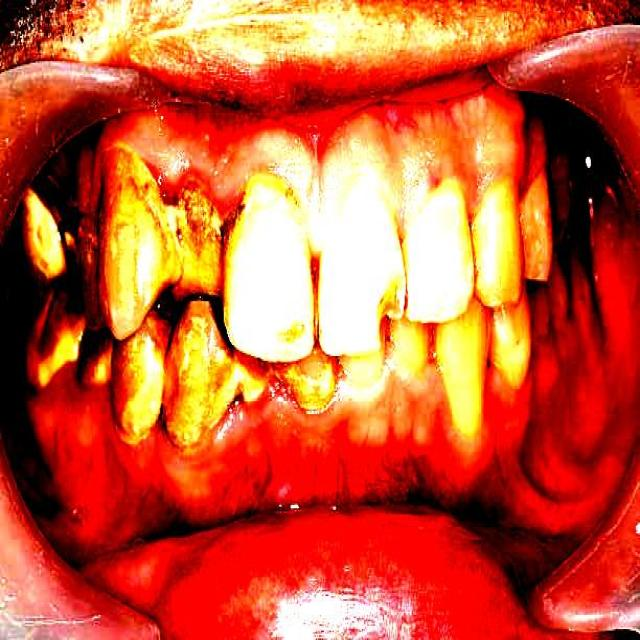caries: (368, 274, 408, 356)
